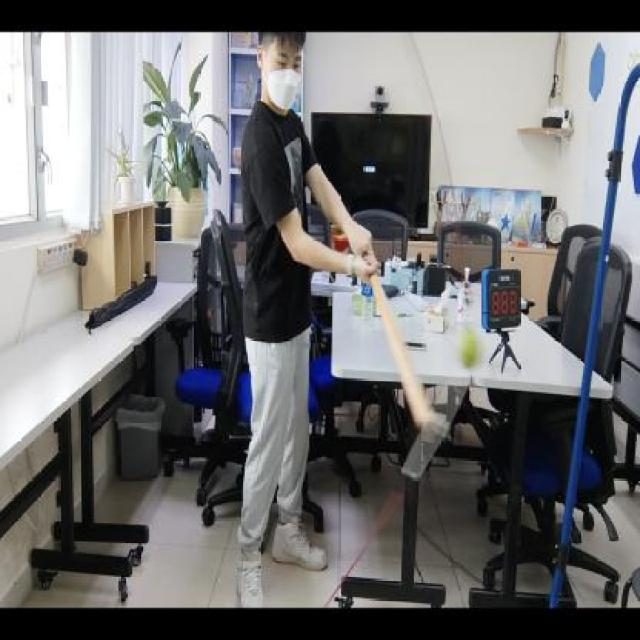baseball: (456, 326, 482, 371)
